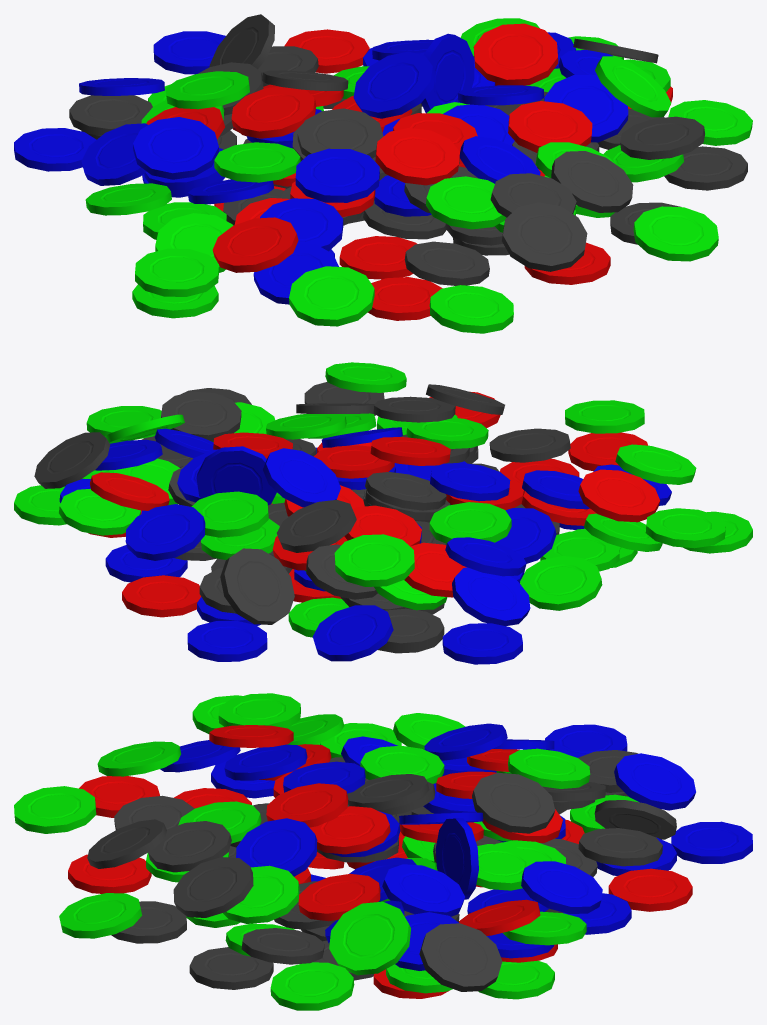
File: PokerChip_p2.fbx
3 views of the same model, one above another, from view 1: azimuth 30°, elevation 25°; view 2: azimuth 150°, elevation 25°; view 3: azimuth 270°, elevation 25° (orthographic). The views are drawn at different scales.
Parts seen in each view (by area): view 1: PokerChip_p2; view 2: PokerChip_p2; view 3: PokerChip_p2.
Boxes of the visible parts, <box> form: PokerChip_p2: <box>14,14,752,333</box>; PokerChip_p2: <box>14,362,752,664</box>; PokerChip_p2: <box>14,693,752,1010</box>.
Size of the model in its own units: 217 by 27.13 by 219.
